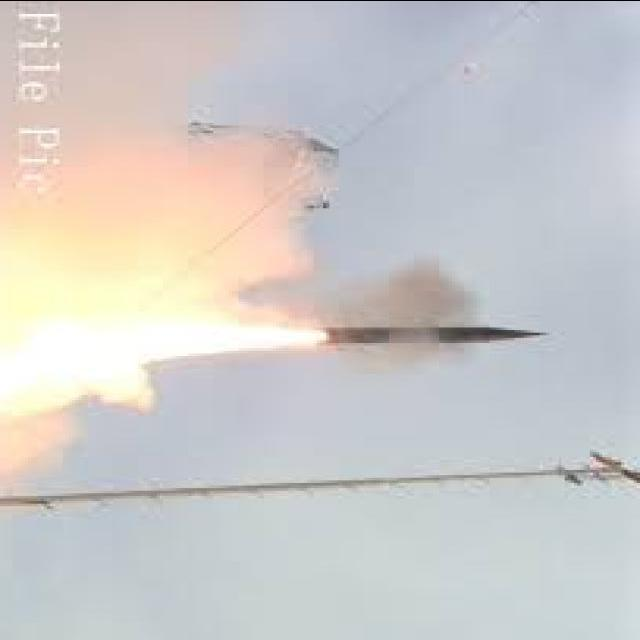missile: (324, 318, 551, 347)
